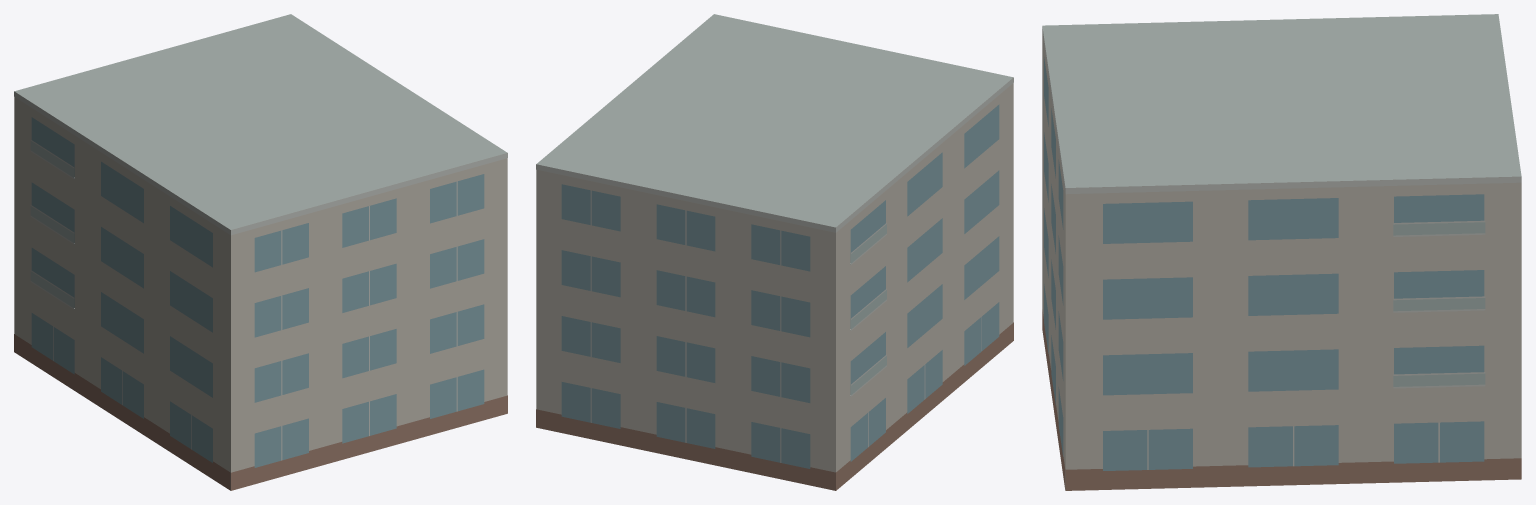
Rendered from survey-upis-32494887.glb.
3 renders of one model, left to right at view 1: azimuth 30°, elevation 25°; view 2: azimuth 150°, elevation 25°; view 3: azimuth 270°, elevation 25°, orthographic. The views are drawn at different scales.
Parts seen in each view (by area): view 1: survey-upis-32494887.tmp; view 2: survey-upis-32494887.tmp; view 3: survey-upis-32494887.tmp.
Part boxes in pixels (<box>): survey-upis-32494887.tmp: <box>14,14,507,490</box>; survey-upis-32494887.tmp: <box>536,14,1013,490</box>; survey-upis-32494887.tmp: <box>1042,14,1521,490</box>.
Bounding box in the file's own units: 14.85 × 12.04 × 17.28.
